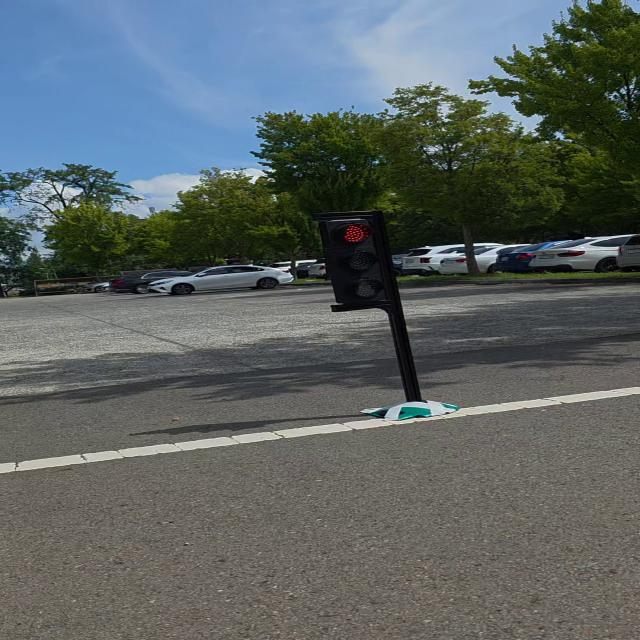red: (312, 218, 401, 310)
